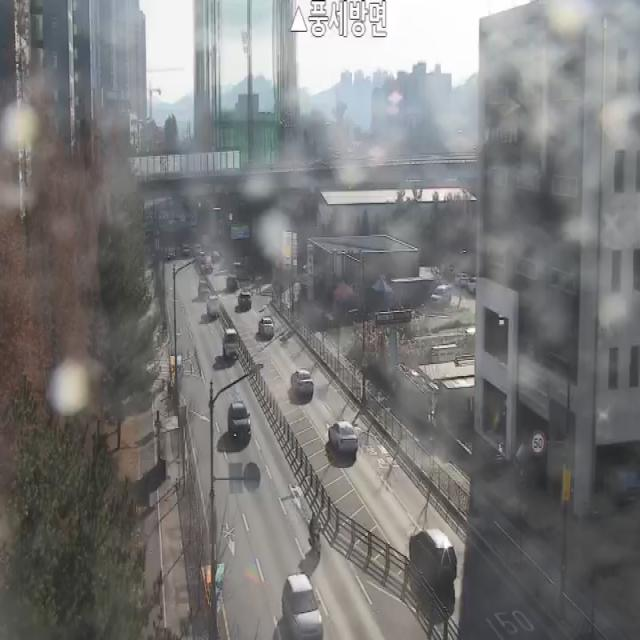Car: (409, 530, 457, 590), (281, 573, 323, 640), (328, 421, 358, 453), (228, 401, 251, 441), (291, 369, 314, 399), (222, 329, 240, 360), (430, 284, 452, 304), (258, 316, 274, 337), (207, 295, 220, 319), (238, 292, 252, 312)
Motorcycle: (307, 508, 324, 552)
